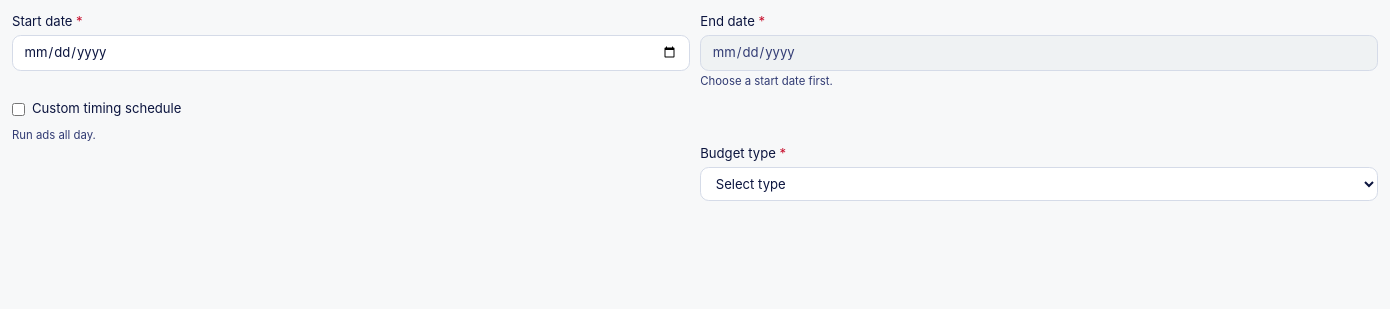
Test: MetaScheduleFields — custom timing › lists end times only after the start, and keeps the end listed
This screenshot has width=1390, height=309.
Click the checkbox labelled "Custom timing schedule": (18, 109) [12,103,25,116]
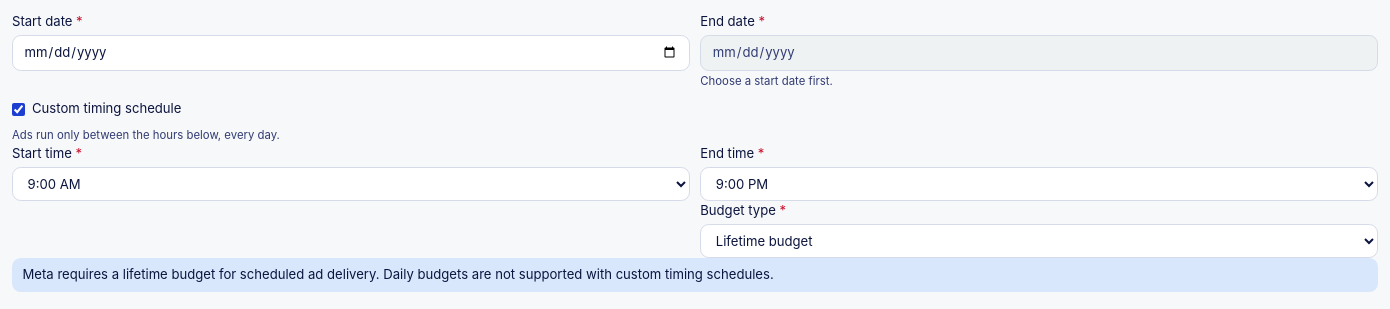
Select "10:00 PM" in the dropdown labelled "Start time *": (351, 184) [12,167,690,201]
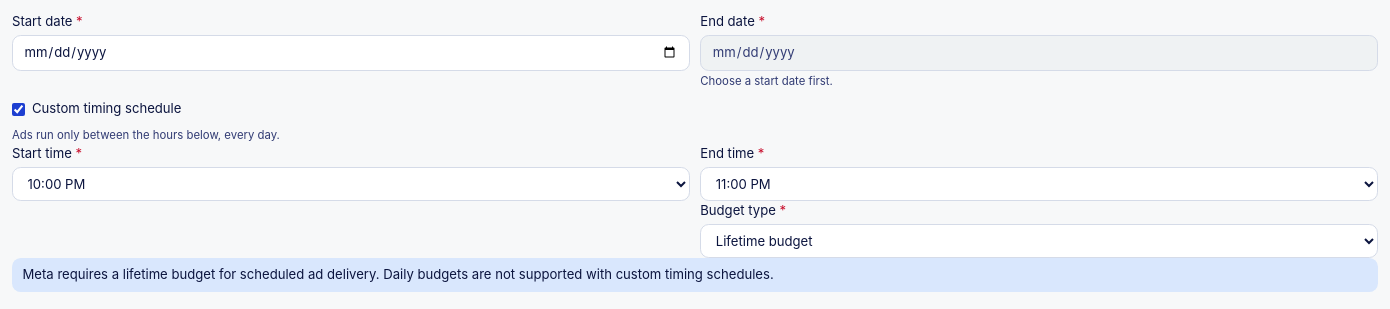
Check: the dropdown labelled "End time *" shows "11:00 PM", box [700,167,1378,201]
